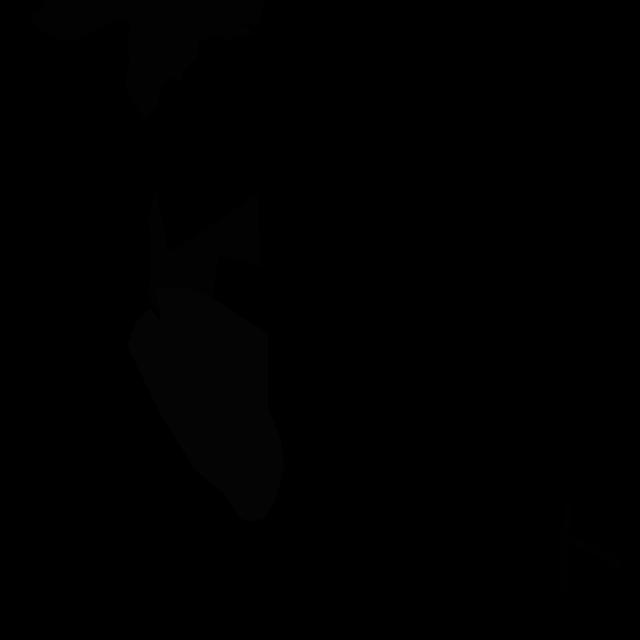cardboard: (27, 0, 265, 120), (148, 193, 261, 315)
rigid_plastic: (559, 496, 622, 594)
soft_plastic: (127, 288, 284, 522)
